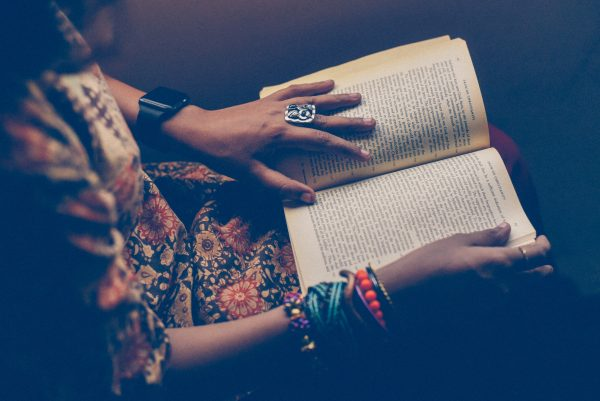Open Book: (268, 47, 545, 300)
